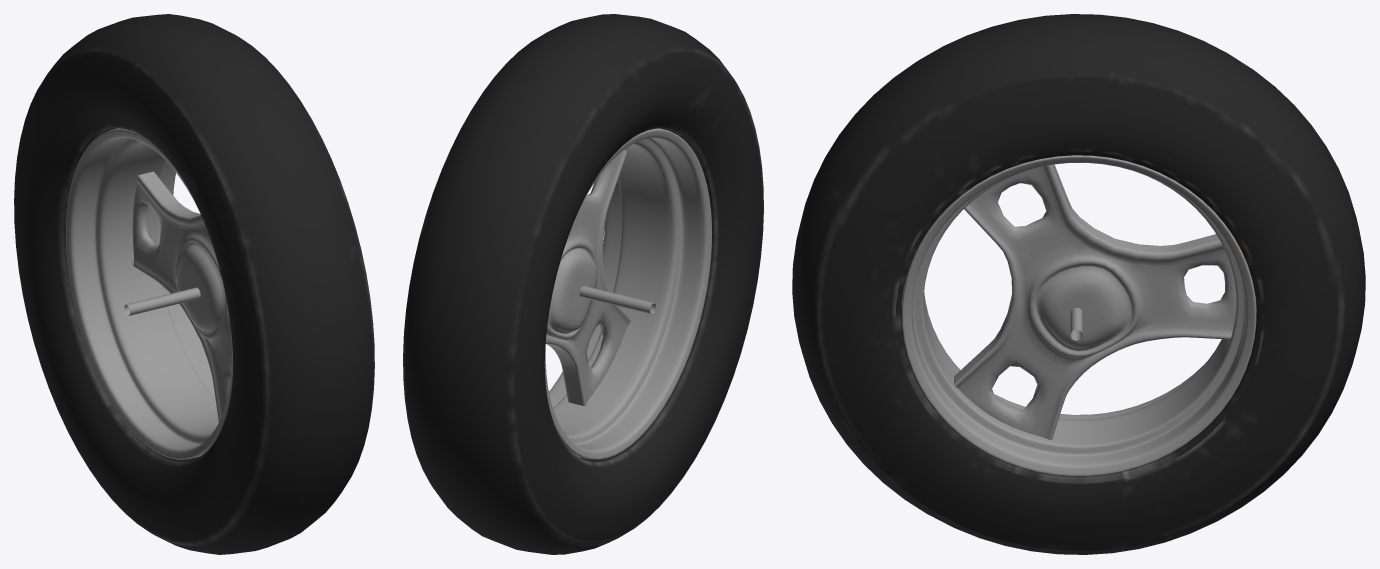
The model's file is sample.glb.
3 renders of one model, left to right at view 1: azimuth 30°, elevation 25°; view 2: azimuth 150°, elevation 25°; view 3: azimuth 270°, elevation 25°, orthographic. The views are drawn at different scales.
Parts seen in each view (by area): view 1: wheel_tire_frint, wheel_rim_front; view 2: wheel_tire_frint, wheel_rim_front; view 3: wheel_tire_frint, wheel_rim_front.
Boxes of the visible parts, x1,y1,x2,y2 form: wheel_tire_frint: (14,14,374,554); wheel_rim_front: (66,128,233,459); wheel_tire_frint: (403,14,763,554); wheel_rim_front: (544,128,711,459); wheel_tire_frint: (792,14,1365,554); wheel_rim_front: (901,155,1256,476).
Size of the model in its own units: 0.7281 by 2.31 by 2.31.
2 materials, 2 textured.
